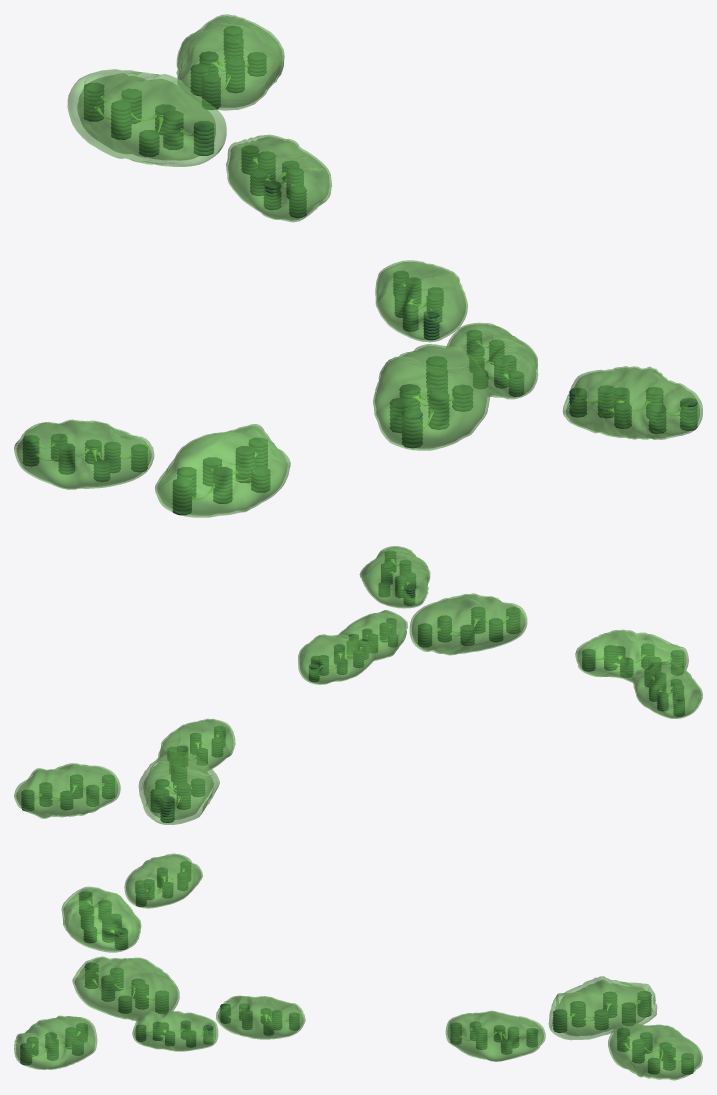
Rendered from KlooroPlas_Solo.glb.
3 renders of one model, top to bottom at view 1: azimuth 30°, elevation 25°; view 2: azimuth 150°, elevation 25°; view 3: azimuth 270°, elevation 25°, orthographic. The views are drawn at different scales.
Parts seen in each view (by area): view 1: Cube.291, Cube.083, Cube.239, Cube.135, Cube.343, Cube.499, Cube.187, Cube.009, Cube.447; view 2: Cube.083, Cube.343, Cube.291, Cube.239, Cube.135, Cube.009, Cube.499, Cube.187, Cube.447; view 3: Cube.083, Cube.291, Cube.343, Cube.239, Cube.187, Cube.135, Cube.499, Cube.009, Cube.447.
Part boxes in pixels (x1,y1,x2,y2): Cube.291: (67, 69, 226, 166); Cube.083: (373, 344, 490, 450); Cube.239: (155, 424, 290, 517); Cube.135: (562, 366, 702, 439); Cube.343: (176, 14, 284, 110); Cube.499: (14, 419, 154, 489); Cube.187: (226, 134, 331, 222); Cube.009: (375, 260, 467, 342); Cube.447: (446, 322, 538, 399); Cube.083: (409, 593, 527, 655); Cube.343: (14, 763, 120, 818); Cube.291: (138, 752, 219, 824); Cube.239: (575, 629, 688, 682); Cube.135: (359, 546, 430, 608); Cube.009: (298, 634, 376, 684); Cube.499: (631, 661, 702, 718); Cube.187: (158, 718, 235, 770); Cube.447: (338, 610, 407, 661); Cube.083: (72, 956, 179, 1020); Cube.291: (548, 976, 657, 1040); Cube.343: (608, 1022, 702, 1080); Cube.239: (61, 886, 141, 952); Cube.187: (445, 1010, 545, 1061); Cube.135: (14, 1015, 97, 1069); Cube.499: (124, 853, 202, 908); Cube.009: (216, 995, 305, 1039); Cube.447: (132, 1010, 218, 1051).
Bounding box in the file's own units: 1.54 × 0.1951 × 2.22.
